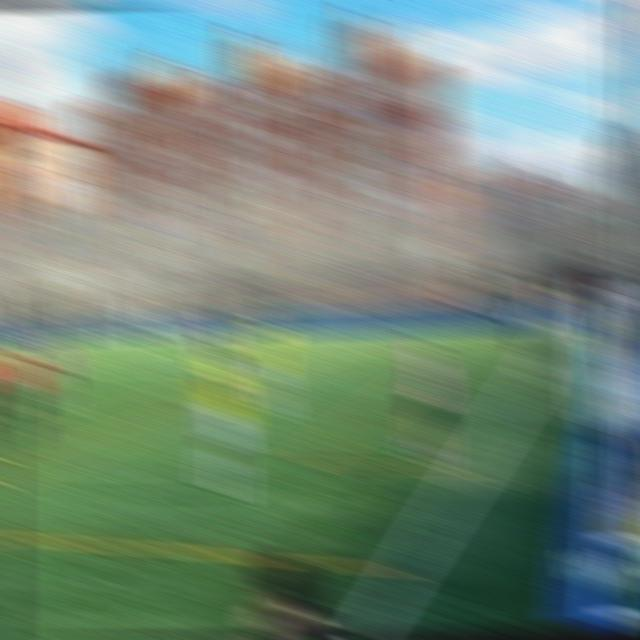bigarea_bottom_outter: (352, 318, 388, 348)
corner: (546, 317, 584, 340)
smallarea_bottom_inner: (174, 333, 204, 357)
